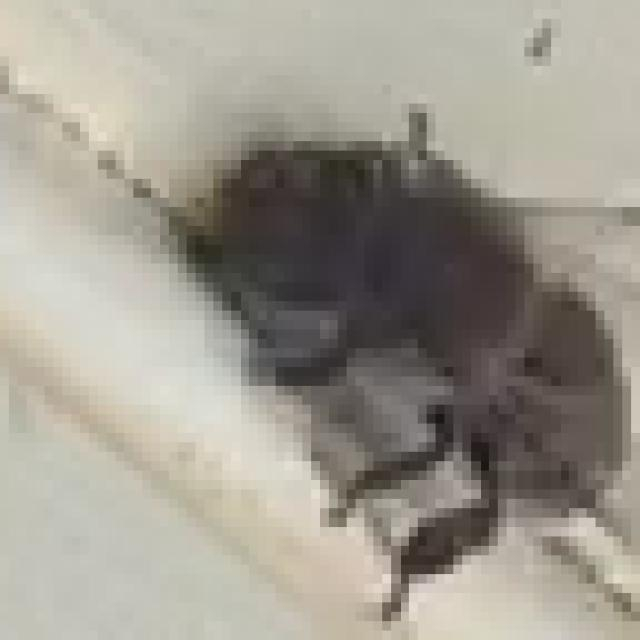honeybee: (180, 143, 620, 567)
